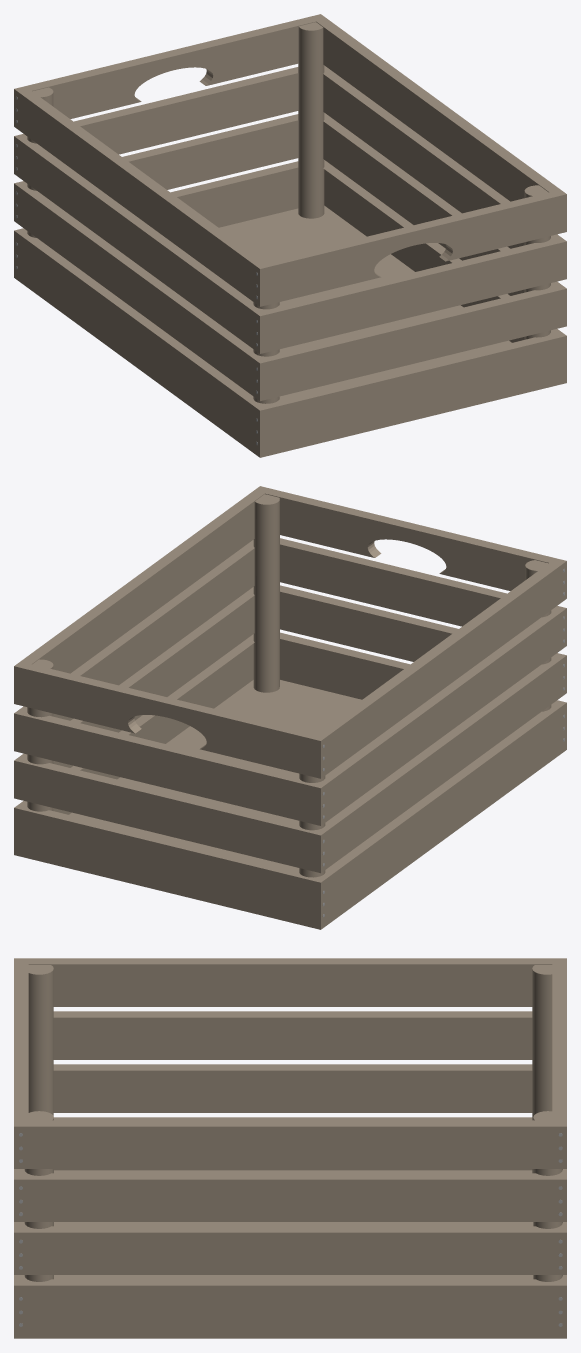
The model's file is AW_Crate12_DF.fbx.
3 renders of one model, top to bottom at view 1: azimuth 30°, elevation 25°; view 2: azimuth 150°, elevation 25°; view 3: azimuth 270°, elevation 25°, orthographic. The views are drawn at different scales.
Parts seen in each view (by area): view 1: polySurface6; view 2: polySurface6; view 3: polySurface6.
Boxes of the visible parts, box(x1,y1,x2,y2) form: polySurface6: box(14, 14, 566, 457); polySurface6: box(14, 486, 566, 929); polySurface6: box(14, 958, 566, 1338).
Size of the model in its own units: 0.2746 by 0.1612 by 0.3807.
